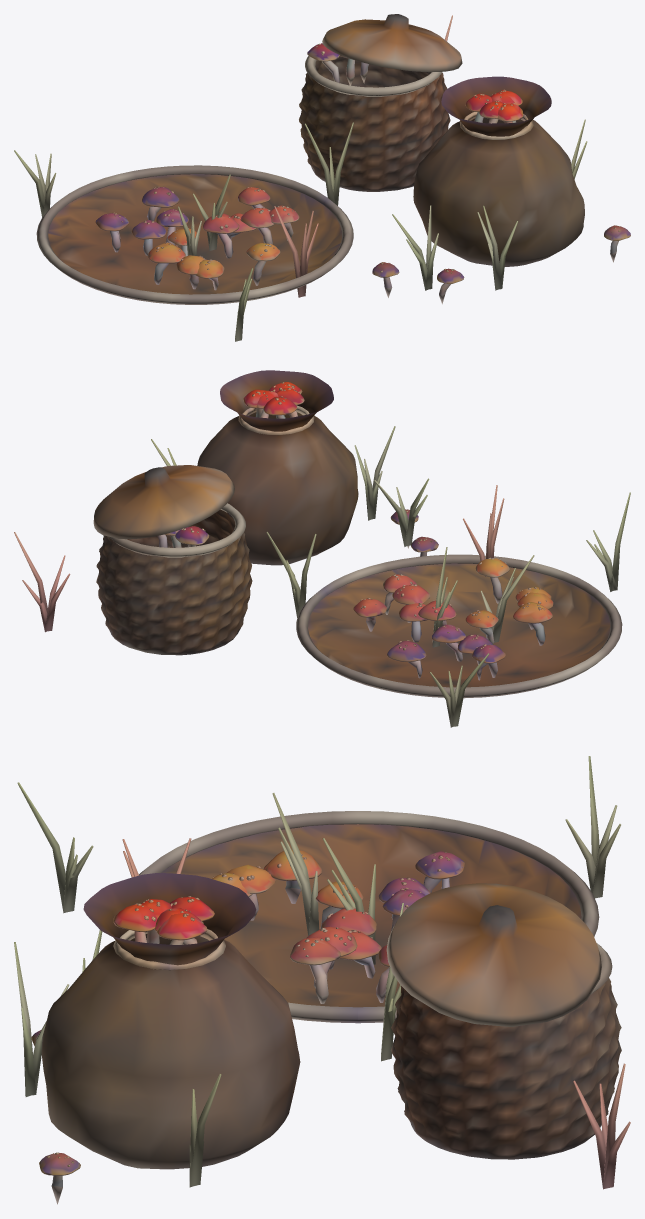
File: sepet_grubu.glb
3 views of the same model, one above another, from view 1: azimuth 30°, elevation 25°; view 2: azimuth 150°, elevation 25°; view 3: azimuth 270°, elevation 25° (orthographic). The views are drawn at different scales.
Parts seen in each view (by area): view 1: sepet_grubu_LOD0; view 2: sepet_grubu_LOD0; view 3: sepet_grubu_LOD0.
Boxes of the visible parts, x1=… form: sepet_grubu_LOD0: x1=14, y1=14, x2=630, y2=341; sepet_grubu_LOD0: x1=14, y1=370, x2=630, y2=727; sepet_grubu_LOD0: x1=14, y1=756, x2=630, y2=1204.
Size of what is drawn, in the model's own units: 2.12 by 0.6674 by 1.54.
